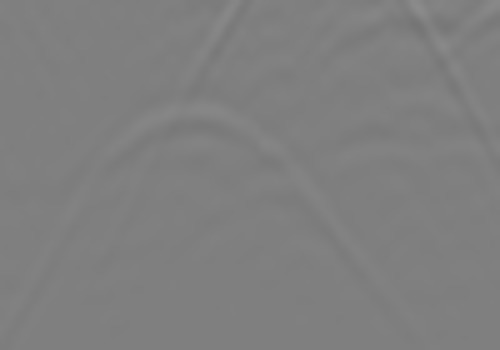hyperbola: (36, 101, 410, 331)
